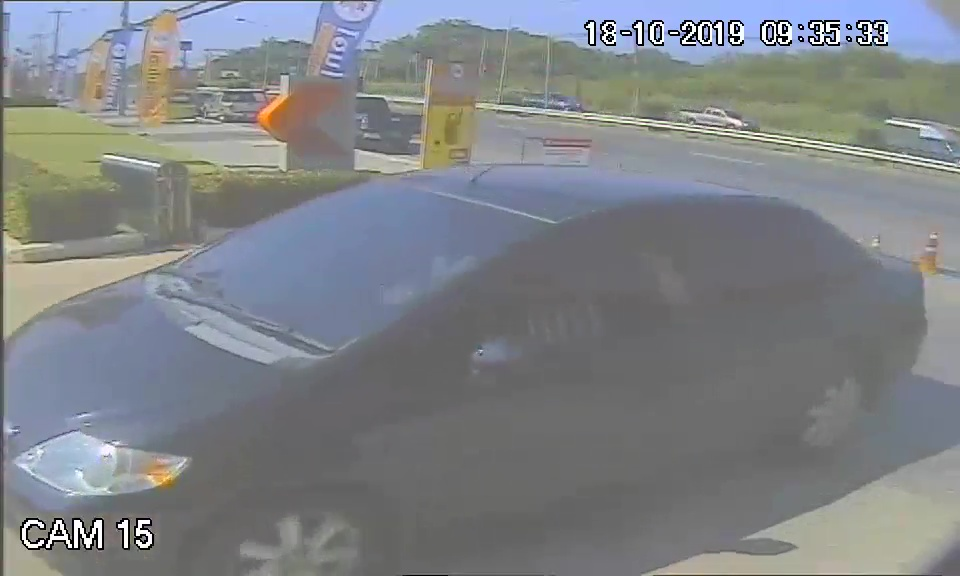sedan: (9, 167, 726, 556)
